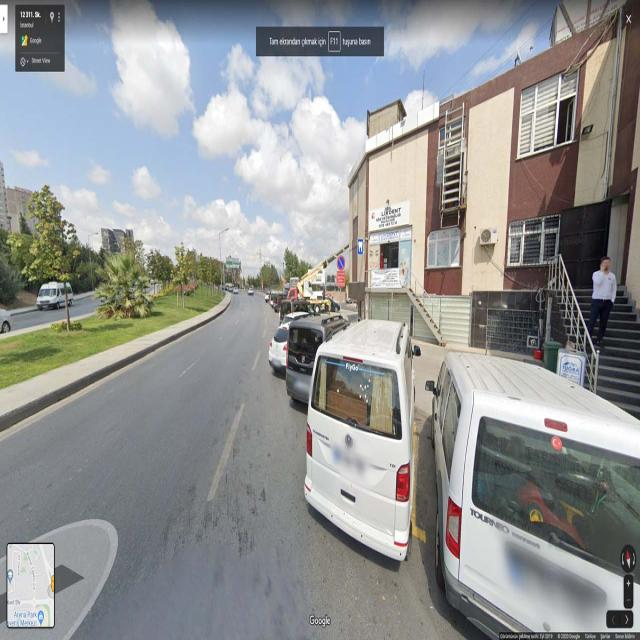parkyasak: (336, 254, 345, 268)
